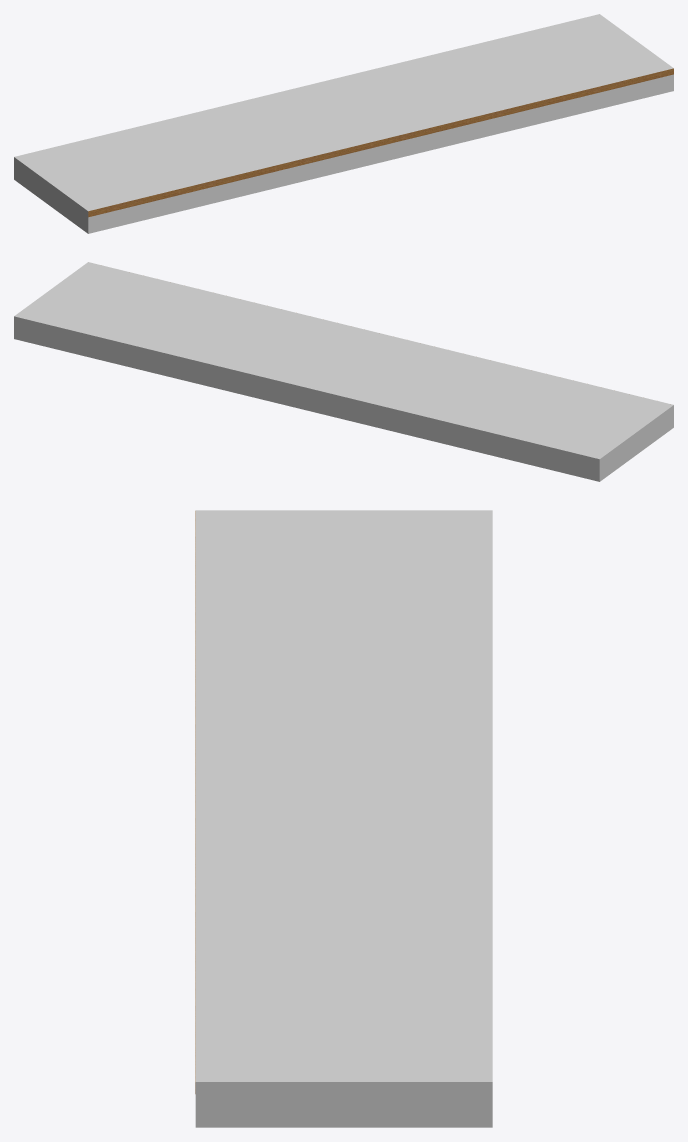
The model's file is VCKR0040.glb.
3 renders of one model, top to bottom at view 1: azimuth 30°, elevation 25°; view 2: azimuth 150°, elevation 25°; view 3: azimuth 270°, elevation 25°, orthographic. The views are drawn at different scales.
Visible parts, largest first — view 1: _bb01.004, wood; view 2: _bb01.004; view 3: _bb01.004.
Boxes of the visible parts, x1=… form: _bb01.004: x1=14, y1=14, x2=673, y2=233; wood: x1=88, y1=68, x2=673, y2=217; _bb01.004: x1=14, y1=262, x2=673, y2=481; _bb01.004: x1=195, y1=510, x2=492, y2=1127.
Size of the model in its own units: 1.22 by 0.0451 by 0.2675.
Materials: 1 (1 with a texture image).
